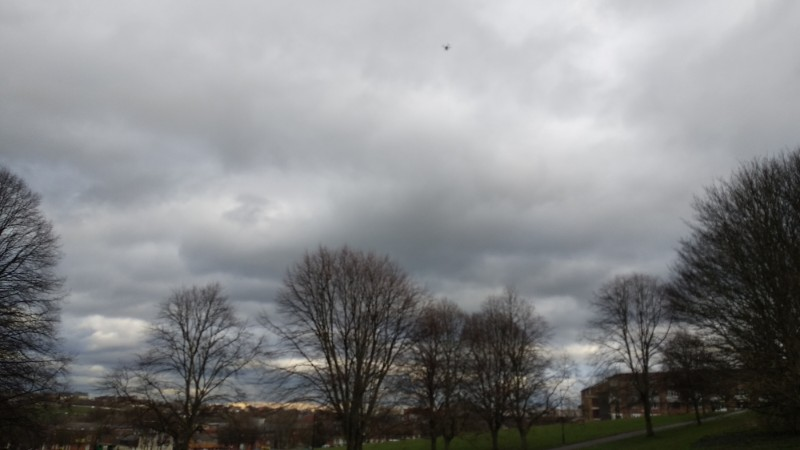drone: (442, 44, 452, 52)
